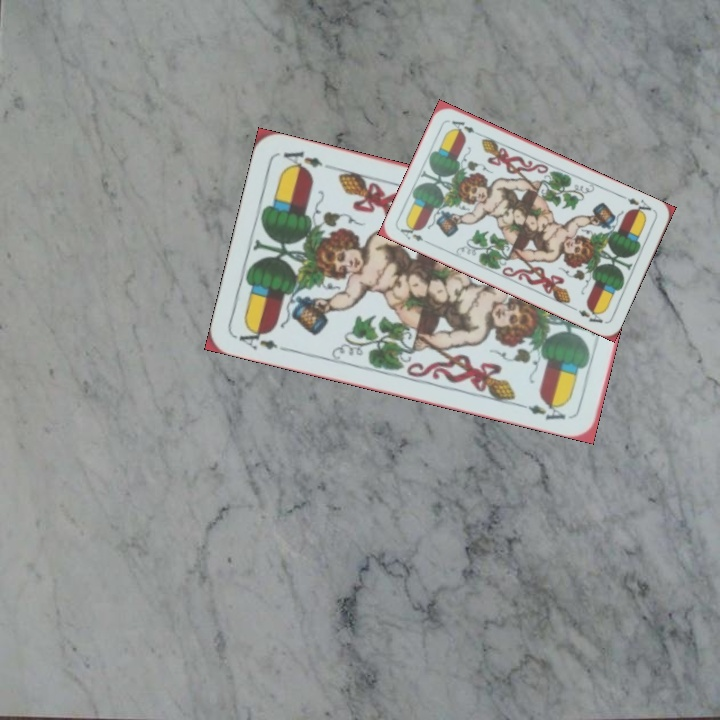EA: (234, 323, 291, 355), (396, 221, 434, 247), (623, 194, 654, 219)
